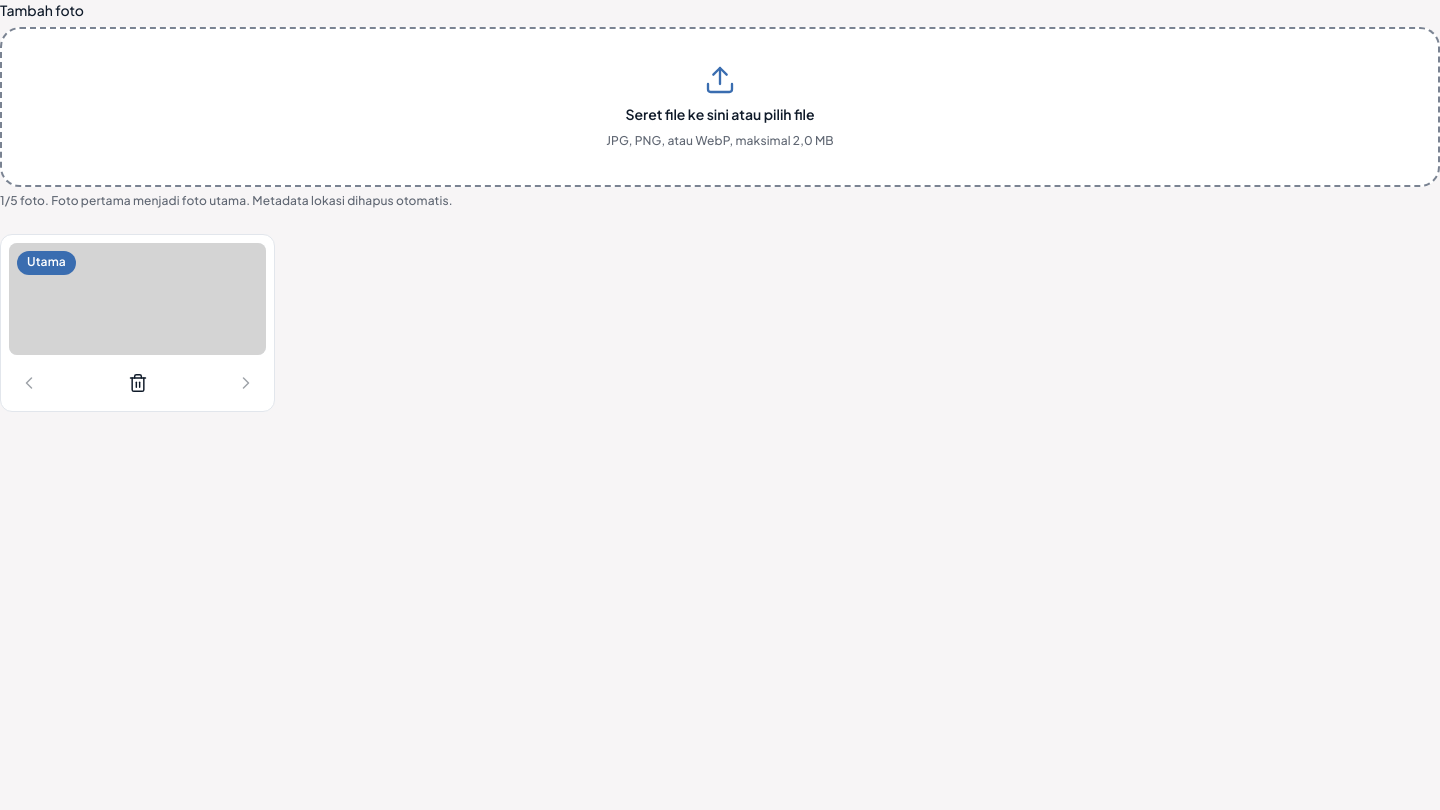
Test: PhotoManager › deletes a photo after confirmation
Click the button named "Hapus foto 1": (138, 383) [118, 363, 158, 403]
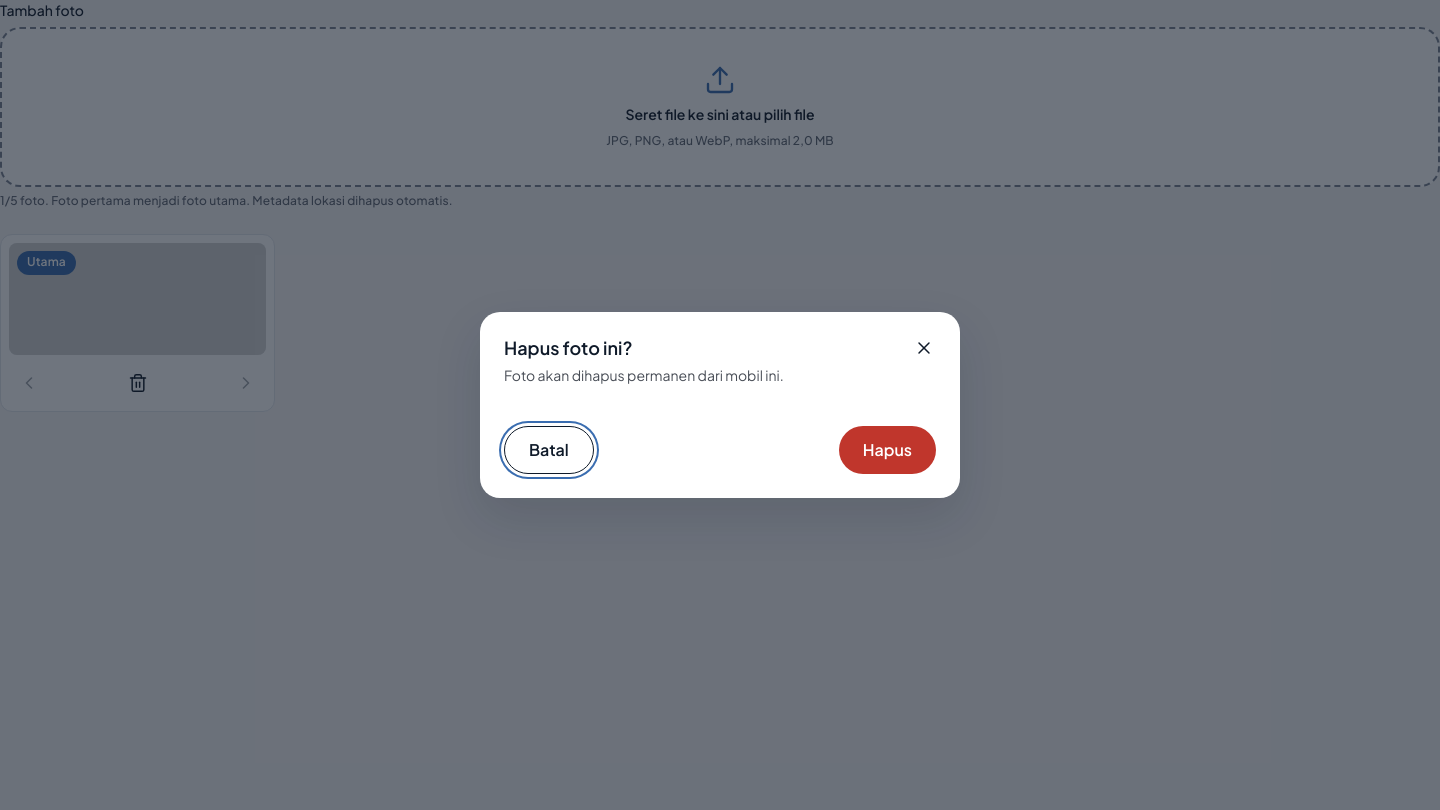
Click the button "Hapus": (887, 450) [839, 426, 936, 474]
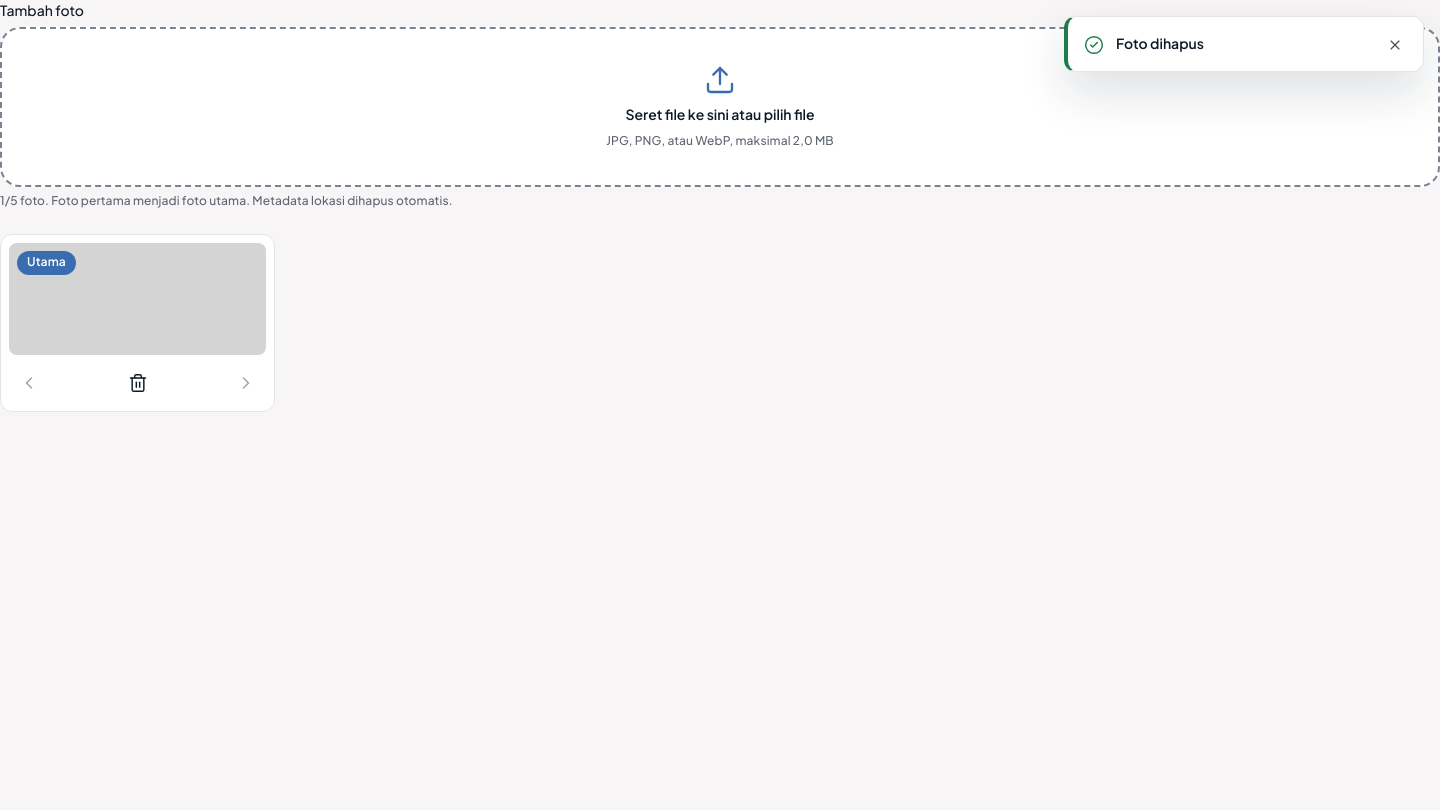
Now the text "Foto dihapus" is shown, box [1116, 33, 1204, 54]
